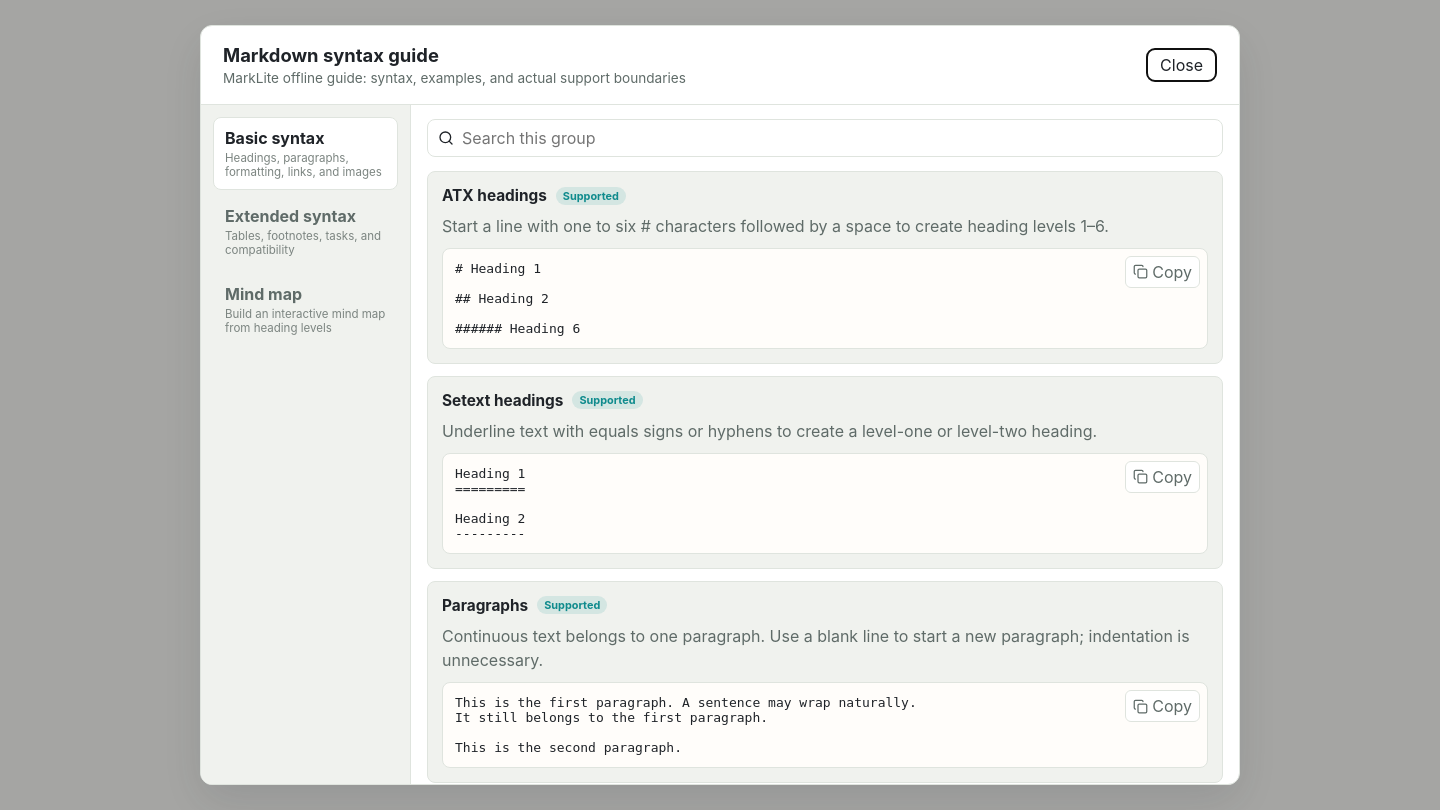
Test: MarkdownGuideDialog › copies only the selected original example
Click the 1st button "Copy". click: (1163, 272)
box: x1=1125 y1=256 x2=1200 y2=288
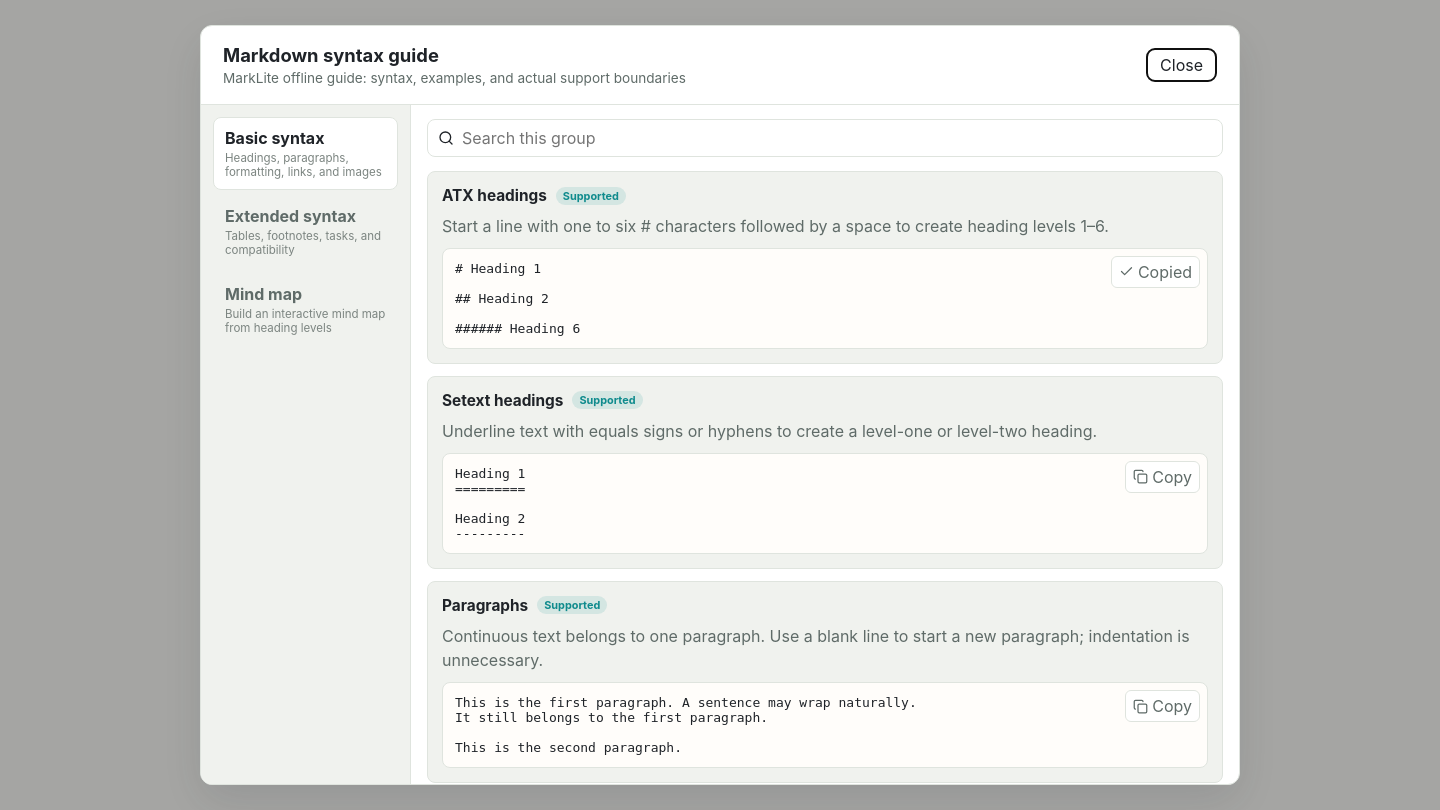
Now the text "Copied" is shown, box x1=1111 y1=256 x2=1200 y2=288
